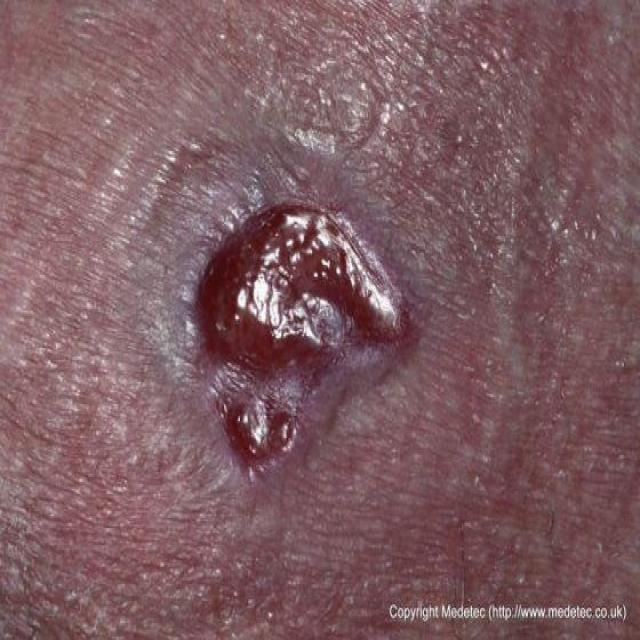stage-3: (195, 192, 419, 482)
